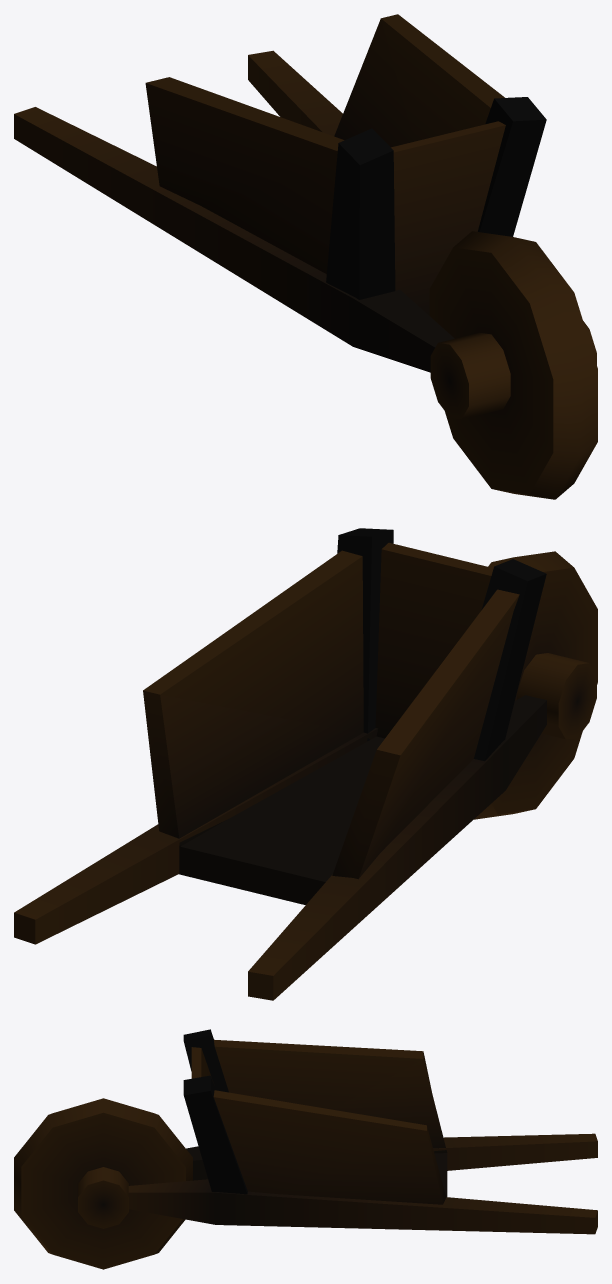
The model's file is SM_Small_cart.fbx.
3 views of the same model, one above another, from view 1: azimuth 30°, elevation 25°; view 2: azimuth 150°, elevation 25°; view 3: azimuth 270°, elevation 25° (orthographic). The views are drawn at different scales.
Visible parts, largest first — view 1: Small_cart; view 2: Small_cart; view 3: Small_cart.
Boxes of the visible parts, box(x1,y1,x2,y2) form: Small_cart: box(14, 14, 597, 499); Small_cart: box(14, 528, 597, 1000); Small_cart: box(14, 1029, 597, 1269).
Size of the model in its own units: 66.26 by 78.46 by 194.
